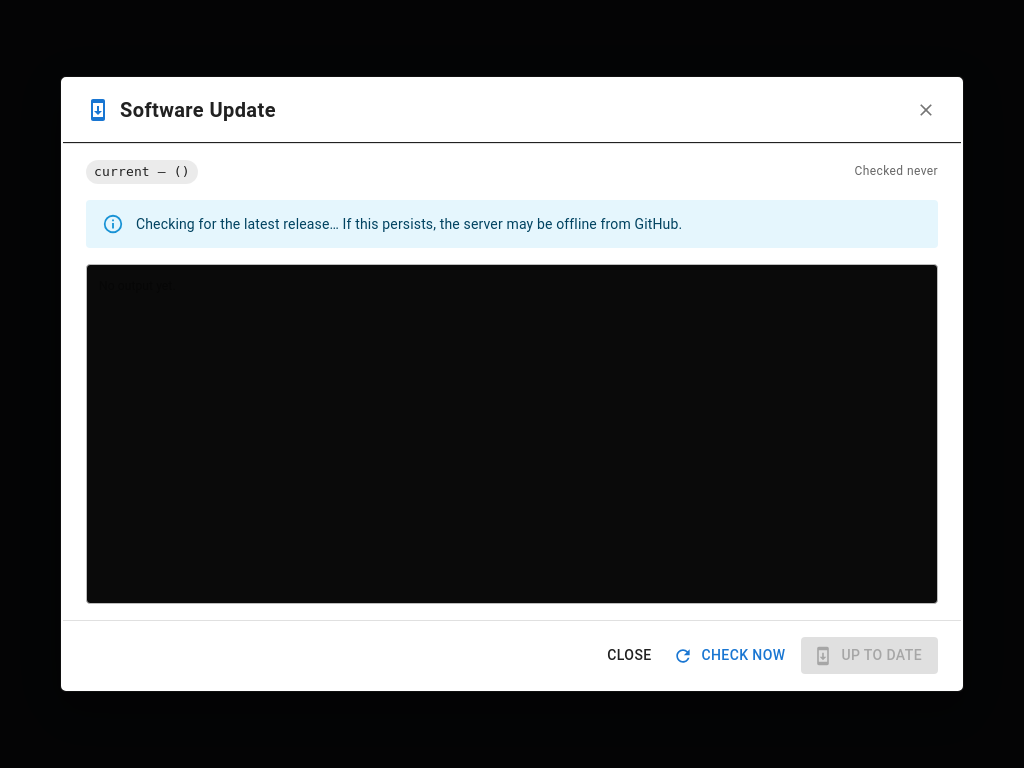
Scenario: UpdateManager — manual check › posts to /api/update/check and surfaces a newly-found release
Expected: the button "Up to date" is shown, left=801, top=637, right=938, bottom=674
What coordinates should you click on to do the following:
click the button "Check now"
I would click on:
 (731, 656)
Its box is left=669, top=637, right=793, bottom=674.
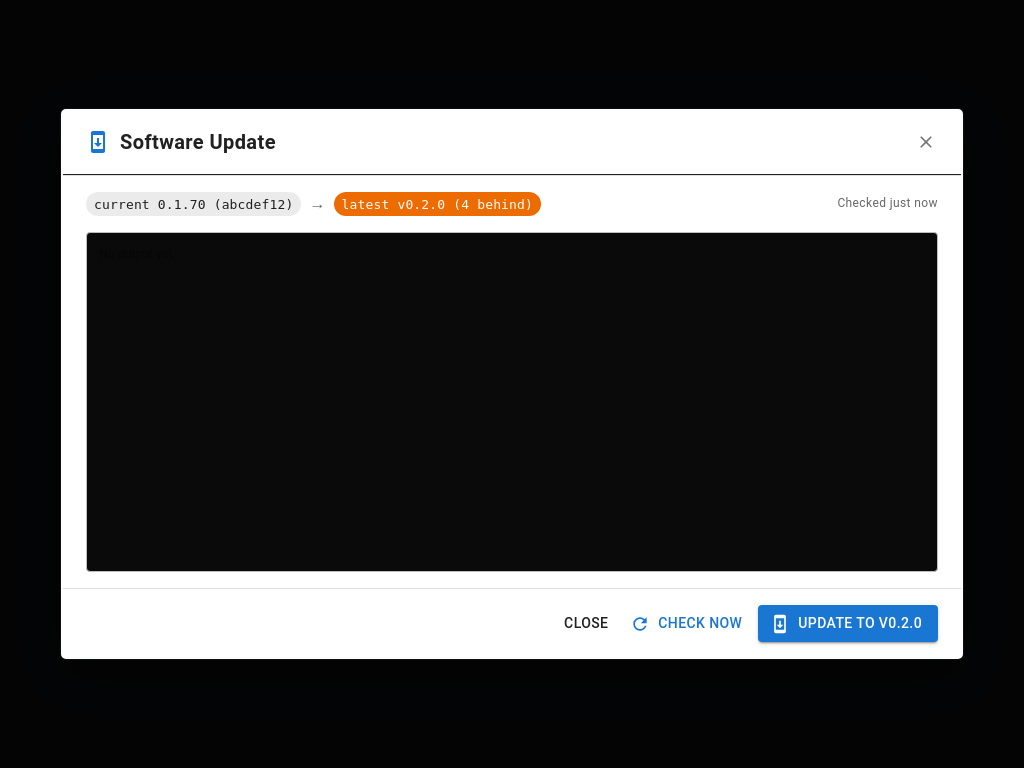
Now the button "Update to v0.2.0" is shown, box left=758, top=605, right=938, bottom=642
Now the text "latest v0.2.0 (4 behind)" is shown, box left=334, top=194, right=541, bottom=214
Now the text "Checked just now" is shown, box left=837, top=194, right=938, bottom=214
